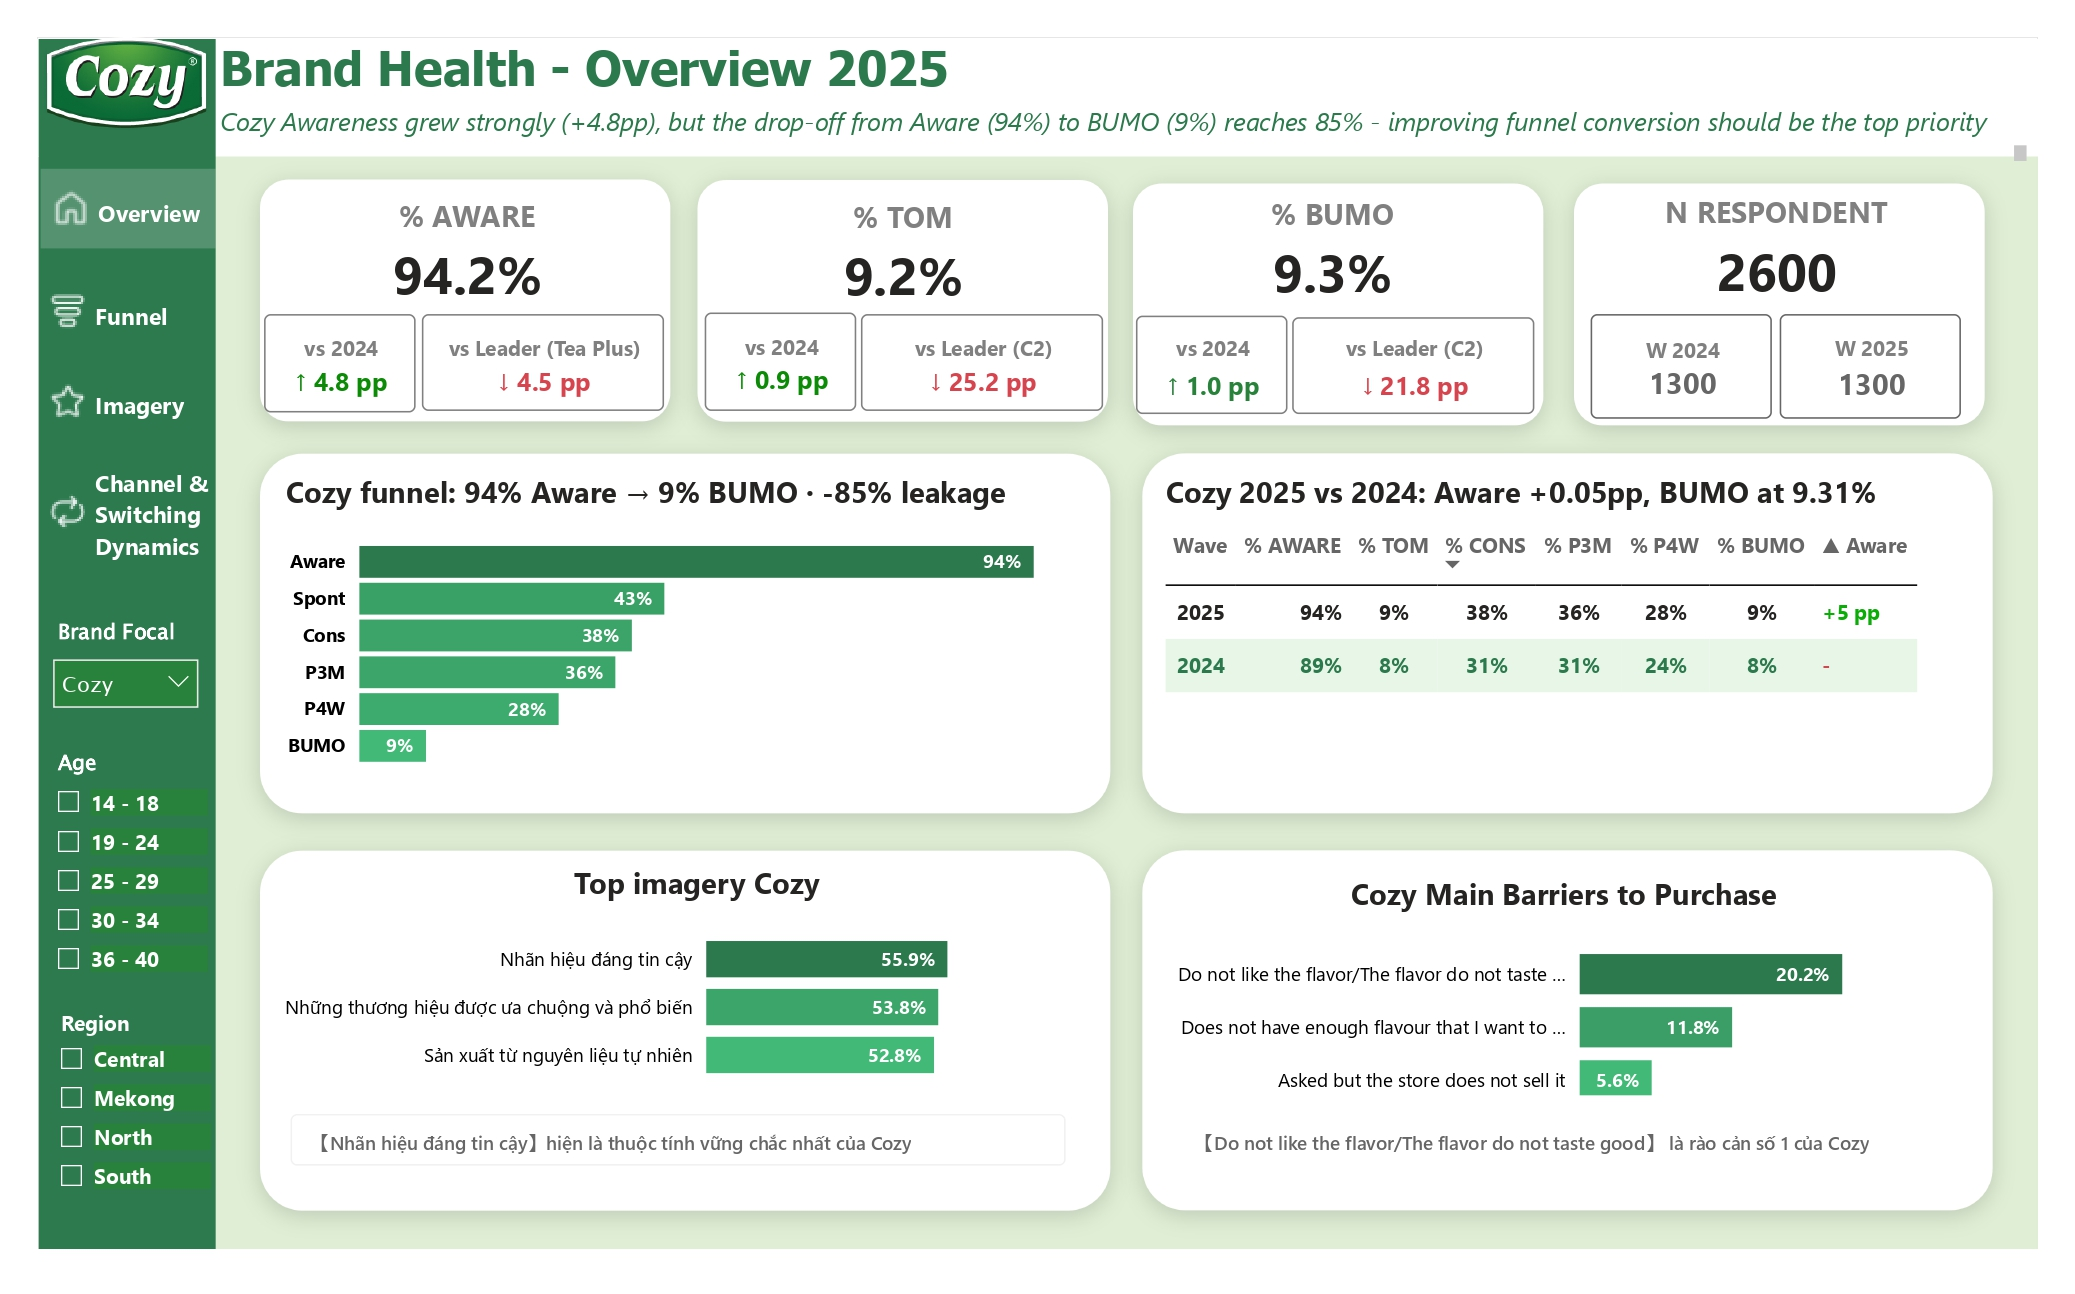

Layout of this report page (visuals, bound fields, positions):
{"tool":"powerbi","page":{"name":"Overview","canvas":[1280,780],"ordinal":0},"visuals":[{"type":"slicer","fields":{"Values":["Dim Master Brand.Master_Brand"]},"box":[0,365.1,113.3,73.3],"z":0},{"type":"textbox","title":"Brand Health - Overview 2025","box":[111.8,0,1166.7,84.3],"z":1000},{"type":"slicer","fields":{"Values":["Dim_Respondent.D3.Age"]},"box":[0,449.2,113.6,157.6],"z":2000},{"type":"cardVisual","fields":{"Data":["Measure.TOM"]},"box":[429,84,250,108],"z":3000},{"type":"cardVisual","fields":{"Data":["Measure.AWARE"]},"box":[154,84,242,106],"z":4000},{"type":"cardVisual","fields":{"Data":["Measure.TOTAL RESPONDENT"]},"box":[994,84,238,101],"z":4000,"group":"g1"},{"type":"cardVisual","fields":{"Data":["Measure.aware change"]},"box":[145.5,177.3,97.7,63.6],"z":5000},{"type":"slicer","fields":{"Values":["Dim_Respondent.Region"]},"box":[1.6,617.5,114.3,134.9],"z":6000},{"type":"cardVisual","fields":{"Data":["Measure.BUMO"]},"box":[721,84,216,103],"z":7000},{"type":"image","box":[0,0,112.5,60.4],"z":8000},{"type":"cardVisual","fields":{"Data":["Measure.% change TOM"]},"box":[426.8,176.3,97.2,63],"z":9000,"group":"g3"},{"type":"cardVisual","fields":{"Data":["Measure.% change BUMO"]},"box":[703.2,177.9,97.2,63],"z":9000,"group":"g4"},{"type":"clusteredBarChart","fields":{"Category":["Funnel Chart.Funnel"],"Y":["Measure.Cozy_Funnel_Value_n"]},"box":[154,278,515,200],"z":9000},{"type":"cardVisual","fields":{"Data":["Measure.N RESPONDENT24","Measure.N RESPONDENT25"]},"box":[994,177,238,67],"z":10000,"group":"g2"},{"type":"clusteredBarChart","fields":{"Category":["Fact Brand Image.Attribute"],"Y":["Fact Brand Image.%imagery25"]},"box":[140,528,564.1,148.4],"z":10000},{"type":"clusteredBarChart","fields":{"Category":["Fact Barriers.Barrier"],"Y":["Fact Barriers.%barrier"]},"box":[712.9,535.5,528.1,164.1],"z":11000},{"type":"pivotTable","fields":{"Rows":["Dim_Respondent.Wave"],"Values":["Measure.% total aware","Measure.% TOM","Measure.% total CONSIDERATION","Measure.%P3M","Measure.%P4W","Measure.% BUMO","Measure.Delta_Aware"]},"box":[716.7,278.3,523.3,200],"z":12000},{"type":"cardVisual","fields":{"Data":["Measure.Barriers_Dynamic"]},"box":[717.2,676.6,525,58.3],"z":13000},{"type":"cardVisual","fields":{"Data":["Measure.Top1_Imagery"]},"box":[150,676.6,520.4,57.4],"z":14000},{"type":"group","id":"g1","title":"Group 2","box":[994,84,238,160],"z":15000},{"type":"group","id":"g2","title":"Group 4","box":[994,177,238,67],"z":16000,"group":"g1"},{"type":"cardVisual","fields":{"Data":["Measure.Change vs Leader Aware all time"]},"box":[245.7,177.1,155.7,62.9],"z":16000},{"type":"group","id":"g3","title":"Group 1","box":[426.8,176.3,255.3,63.2],"z":17000},{"type":"group","id":"g4","title":"Group 1","box":[703.2,177.9,255.3,64.2],"z":18000},{"type":"actionButton","title":"Button Home","box":[1.6,84.1,112.7,50.8],"z":19000},{"type":"cardVisual","fields":{"Data":["Measure.Change vs Leader TOM"]},"box":[526.8,177,155.6,62.5],"z":19000,"group":"g3"},{"type":"cardVisual","fields":{"Data":["Measure.Change vs Leader BUMO"]},"box":[803.2,178.6,155.6,62.5],"z":19000,"group":"g4"},{"type":"actionButton","title":"Button Home","box":[0,151.6,112.7,47.6],"z":20000},{"type":"actionButton","title":"Button Home","box":[0,216,112.7,33.3],"z":21000},{"type":"actionButton","title":"Button Home","box":[0,266,116,74],"z":22000}]}

Visuals, with their boxes on the page's 1280x780 design canvas (x1, y1, x2, y2). These are canvas units, not pixel positions in the 2075x1294 screenshot, which may show the page scaled, cropped or inside an application window:
slicer - Dim Master Brand.Master_Brand: Rect(0, 365, 113, 438)
"Brand Health - Overview 2025" textbox: Rect(112, 0, 1278, 84)
slicer - Dim_Respondent.D3.Age: Rect(0, 449, 114, 607)
cardVisual - Measure.TOM: Rect(429, 84, 679, 192)
cardVisual - Measure.AWARE: Rect(154, 84, 396, 190)
cardVisual - Measure.TOTAL RESPONDENT: Rect(994, 84, 1232, 185)
cardVisual - Measure.aware change: Rect(146, 177, 243, 241)
slicer - Dim_Respondent.Region: Rect(2, 618, 116, 752)
cardVisual - Measure.BUMO: Rect(721, 84, 937, 187)
image: Rect(0, 0, 112, 60)
cardVisual - Measure.% change TOM: Rect(427, 176, 524, 239)
cardVisual - Measure.% change BUMO: Rect(703, 178, 800, 241)
clusteredBarChart - Funnel Chart.Funnel x Measure.Cozy_Funnel_Value_n: Rect(154, 278, 669, 478)
cardVisual - Measure.N RESPONDENT24 x Measure.N RESPONDENT25: Rect(994, 177, 1232, 244)
clusteredBarChart - Fact Brand Image.Attribute x Fact Brand Image.%imagery25: Rect(140, 528, 704, 676)
clusteredBarChart - Fact Barriers.Barrier x Fact Barriers.%barrier: Rect(713, 536, 1241, 700)
pivotTable - Dim_Respondent.Wave x Measure.% total aware: Rect(717, 278, 1240, 478)
cardVisual - Measure.Barriers_Dynamic: Rect(717, 677, 1242, 735)
cardVisual - Measure.Top1_Imagery: Rect(150, 677, 670, 734)
"Group 2" group: Rect(994, 84, 1232, 244)
"Group 4" group: Rect(994, 177, 1232, 244)
cardVisual - Measure.Change vs Leader Aware all time: Rect(246, 177, 401, 240)
"Group 1" group: Rect(427, 176, 682, 240)
"Group 1" group: Rect(703, 178, 958, 242)
"Button Home" actionButton: Rect(2, 84, 114, 135)
cardVisual - Measure.Change vs Leader TOM: Rect(527, 177, 682, 240)
cardVisual - Measure.Change vs Leader BUMO: Rect(803, 179, 959, 241)
"Button Home" actionButton: Rect(0, 152, 113, 199)
"Button Home" actionButton: Rect(0, 216, 113, 249)
"Button Home" actionButton: Rect(0, 266, 116, 340)
